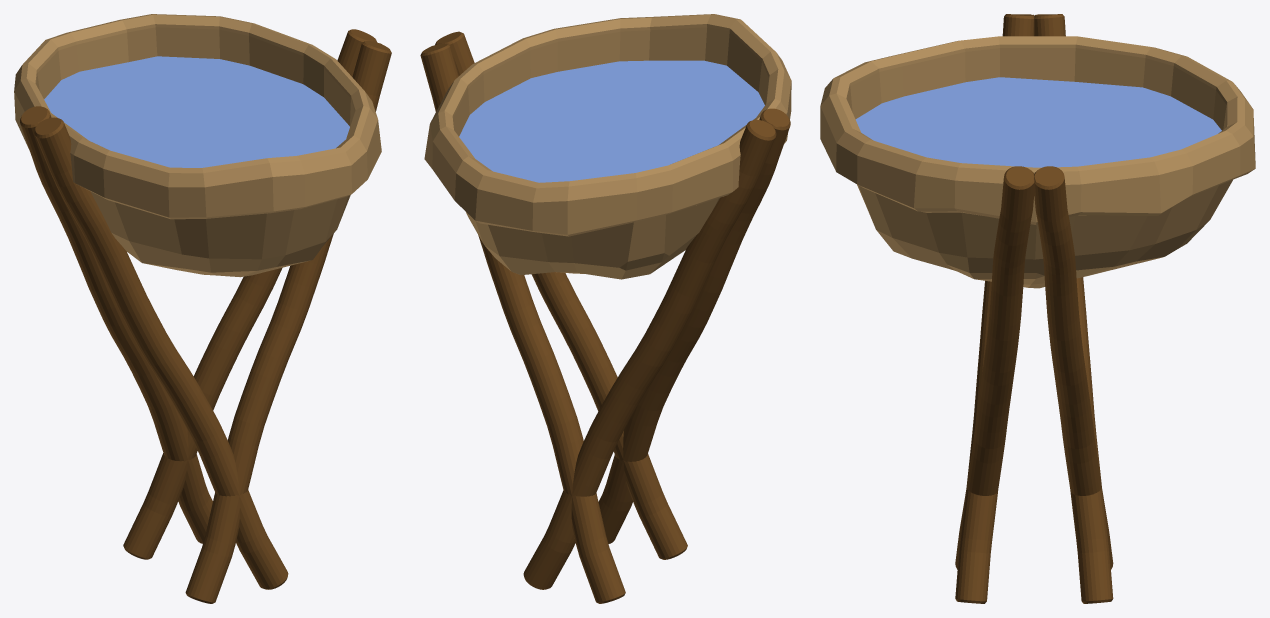
File: water.fbx
3 renders of one model, left to right at view 1: azimuth 30°, elevation 25°; view 2: azimuth 150°, elevation 25°; view 3: azimuth 270°, elevation 25°, orthographic.
Parts seen in each view (by area): view 1: Sphere.008, Cylinder.013; view 2: Sphere.008, Cylinder.013; view 3: Sphere.008, Cylinder.013.
Part boxes in pixels (bbox=[...]): Sphere.008: bbox=[14, 14, 381, 277]; Cylinder.013: bbox=[20, 29, 391, 603]; Sphere.008: bbox=[424, 14, 791, 279]; Cylinder.013: bbox=[420, 31, 790, 603]; Sphere.008: bbox=[820, 36, 1255, 288]; Cylinder.013: bbox=[955, 14, 1113, 603].
Size of the model in its own units: 201 by 270 by 213.
